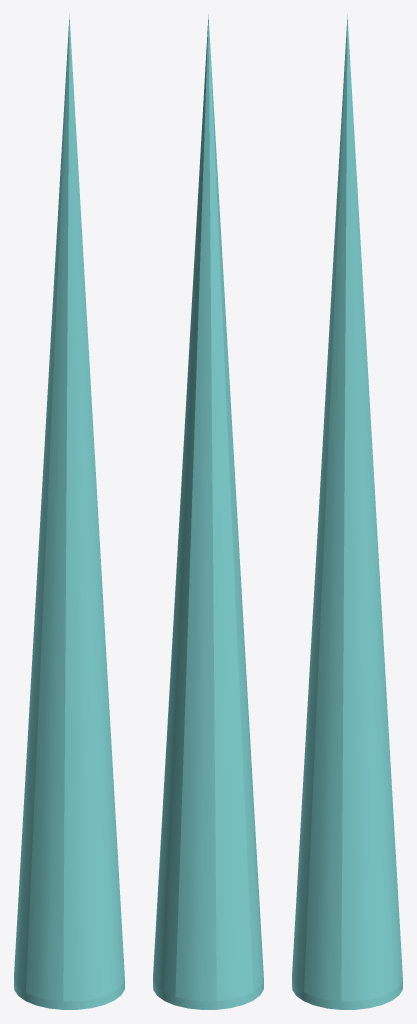
Rendered from DisparoRecargado.fbx.
The picture shows the model from 3 angles, left to right: view 1: azimuth 90°, elevation 25°; view 2: azimuth 150°, elevation 25°; view 3: azimuth 270°, elevation 25°; orthographic projection.
Visible parts, largest first — view 1: Model; view 2: Model; view 3: Model.
Boxes of the visible parts, left/top/right/bottom form: Model: left=14, top=14, right=124, bottom=1009; Model: left=153, top=14, right=263, bottom=1009; Model: left=292, top=14, right=402, bottom=1009.
Size of the model in its own units: 15.11 by 146 by 15.11.
